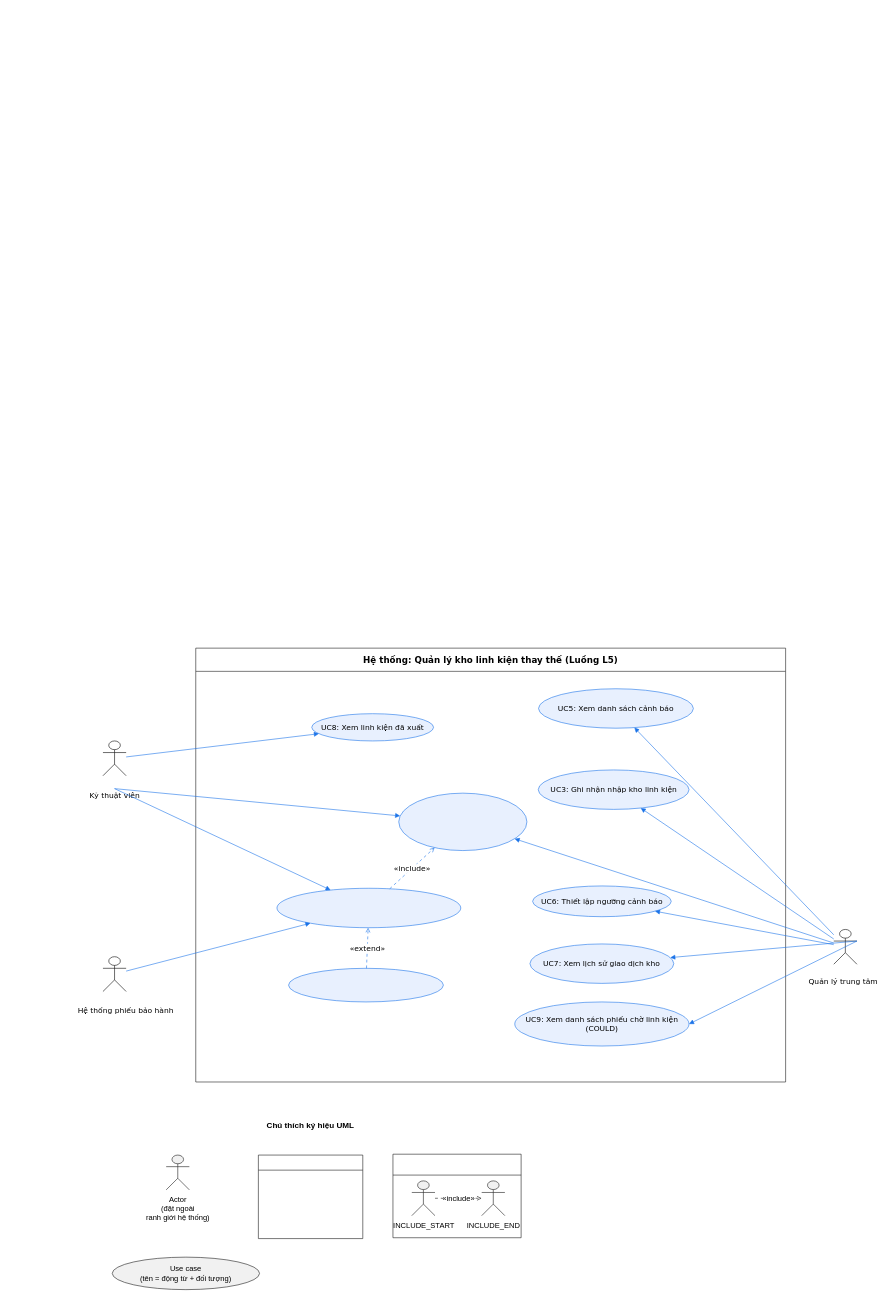
The diagram is 890 pixels wide and 1300 high, and some of its shapes have lost their labels. The shapes that lost their labels are listed below. From the top down, each one's centre as x and y in pixels, then its label:
At pixel 462 822: "UC1: Tra cứu tồn kho linh kiện".
At pixel 368 908: "UC2: Ghi nhận xuất kho cho phiếu bảo hành".
At pixel 365 985: "UC4: Phát cảnh báo tồn dưới ngưỡng".
At pixel 310 1196: "Ranh giới hệ thống (System boundary)".
